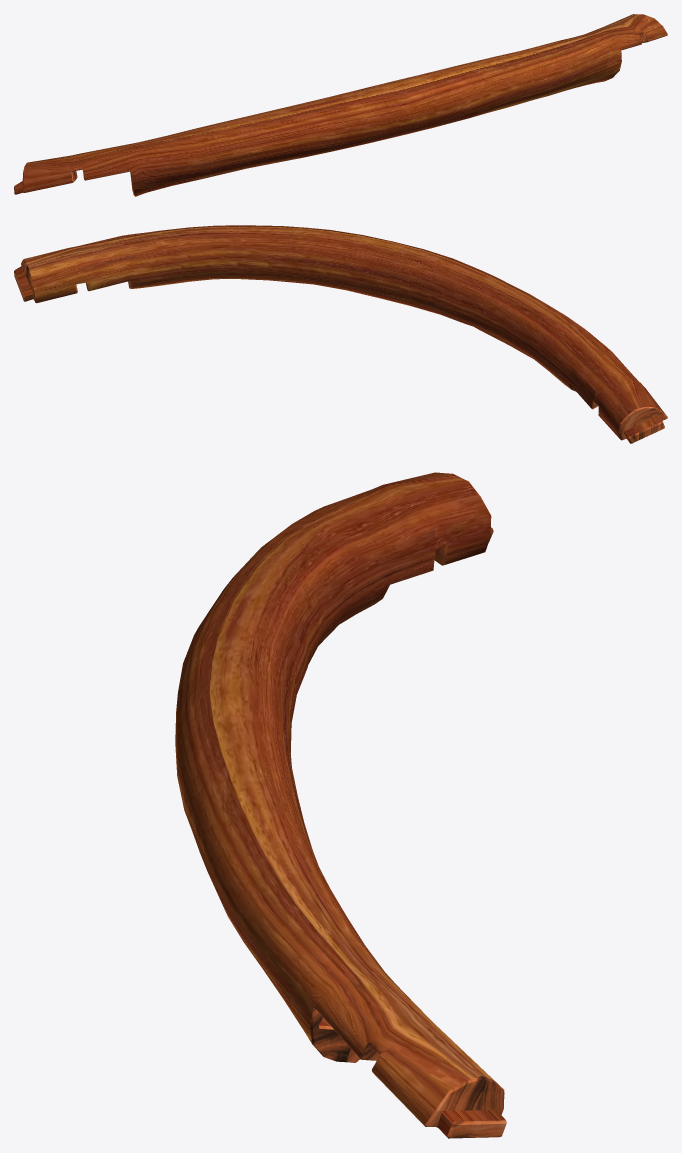
Rendered from quanyi_J_D_yiquan03.FBX.
3 views of the same model, one above another, from view 1: azimuth 30°, elevation 25°; view 2: azimuth 150°, elevation 25°; view 3: azimuth 270°, elevation 25° (orthographic). The views are drawn at different scales.
Visible parts, largest first — view 1: quanyi_J_D_yiquan03; view 2: quanyi_J_D_yiquan03; view 3: quanyi_J_D_yiquan03.
Boxes of the visible parts, x1,y1,x2,y2 form: quanyi_J_D_yiquan03: (14,14,667,196); quanyi_J_D_yiquan03: (14,225,667,443); quanyi_J_D_yiquan03: (175,472,506,1138).
Size of the model in its own units: 40.05 by 4.75 by 8.89.
2 materials, 2 textured.
